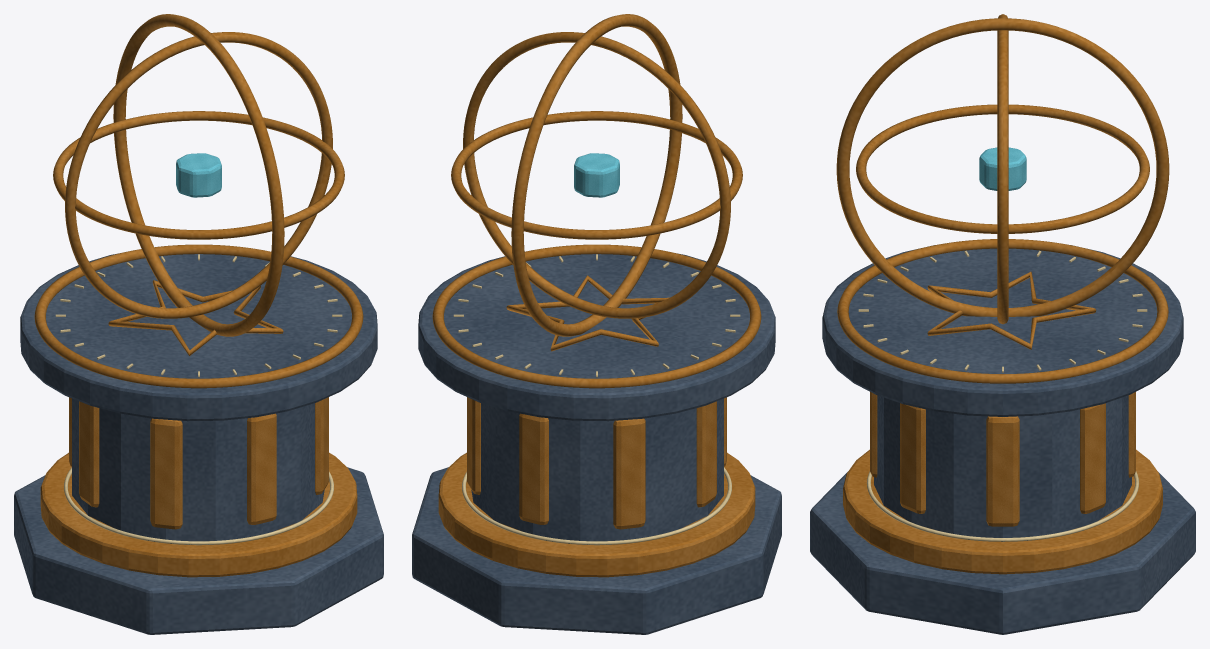
Rendered from ObservatoryAltar.fbx.
The picture shows the model from 3 angles, left to right: view 1: azimuth 30°, elevation 25°; view 2: azimuth 150°, elevation 25°; view 3: azimuth 270°, elevation 25°; orthographic projection.
Visible parts, largest first — view 1: Star chart table.003, Octagonal plinth.003, Carved pedestal.003, Lower molding.003, Meridian.003, Ecliptic.003, Chart rim.003, Equator.003, Relief panel.029, Relief panel.030, Relief panel.028, Inlaid wish sigil.015 (+3 smaller); view 2: Star chart table.003, Octagonal plinth.003, Carved pedestal.003, Lower molding.003, Meridian.003, Ecliptic.003, Chart rim.003, Equator.003, Relief panel.027, Relief panel.026, Relief panel.028, Armillary central star.002 (+3 smaller); view 3: Star chart table.003, Octagonal plinth.003, Carved pedestal.003, Lower molding.003, Meridian.003, Chart rim.003, Equator.003, Relief panel.024, Ecliptic.003, Relief panel.025, Relief panel.031, Inlaid wish sigil.015 (+4 smaller).
Part boxes in pixels (bbox=[...]): Star chart table.003: bbox=[20, 253, 377, 421]; Octagonal plinth.003: bbox=[14, 467, 383, 634]; Carved pedestal.003: bbox=[72, 398, 324, 541]; Lower molding.003: bbox=[40, 452, 357, 577]; Meridian.003: bbox=[113, 14, 284, 336]; Ecliptic.003: bbox=[65, 32, 332, 318]; Chart rim.003: bbox=[34, 244, 363, 388]; Equator.003: bbox=[53, 111, 344, 239]; Relief panel.029: bbox=[150, 418, 182, 529]; Relief panel.030: bbox=[247, 413, 276, 524]; Relief panel.028: bbox=[79, 401, 99, 507]; Inlaid wish sigil.015: bbox=[108, 280, 283, 355]; Star chart table.003: bbox=[418, 253, 775, 421]; Octagonal plinth.003: bbox=[412, 467, 781, 634]; Carved pedestal.003: bbox=[471, 398, 723, 541]; Lower molding.003: bbox=[438, 452, 755, 577]; Meridian.003: bbox=[511, 14, 682, 336]; Ecliptic.003: bbox=[463, 32, 730, 318]; Chart rim.003: bbox=[432, 244, 761, 388]; Equator.003: bbox=[451, 111, 742, 239]; Relief panel.027: bbox=[613, 418, 645, 529]; Relief panel.026: bbox=[519, 413, 548, 524]; Relief panel.028: bbox=[696, 401, 716, 507]; Armillary central star.002: bbox=[574, 153, 619, 197]; Star chart table.003: bbox=[822, 245, 1183, 416]; Octagonal plinth.003: bbox=[810, 472, 1195, 634]; Carved pedestal.003: bbox=[874, 395, 1131, 537]; Lower molding.003: bbox=[843, 449, 1162, 574]; Meridian.003: bbox=[836, 18, 1169, 316]; Chart rim.003: bbox=[837, 239, 1168, 383]; Equator.003: bbox=[856, 104, 1149, 233]; Relief panel.024: bbox=[986, 416, 1019, 526]; Ecliptic.003: bbox=[997, 14, 1008, 324]; Relief panel.025: bbox=[1080, 403, 1105, 513]; Relief panel.031: bbox=[900, 403, 925, 513]; Inlaid wish sigil.015: bbox=[927, 271, 1096, 349].
Size of the model in its own units: 149 by 230 by 150.
Materials: 5 (5 with a texture image).
